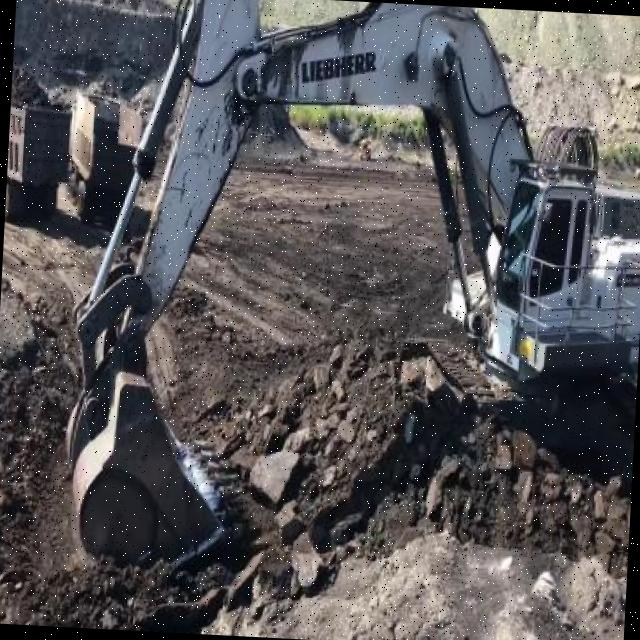Dump Truck: (64, 81, 147, 229), (5, 86, 76, 232)
Excavator: (54, 0, 640, 600)
